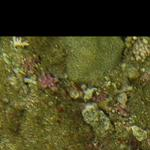dead: (6, 41, 147, 146)
